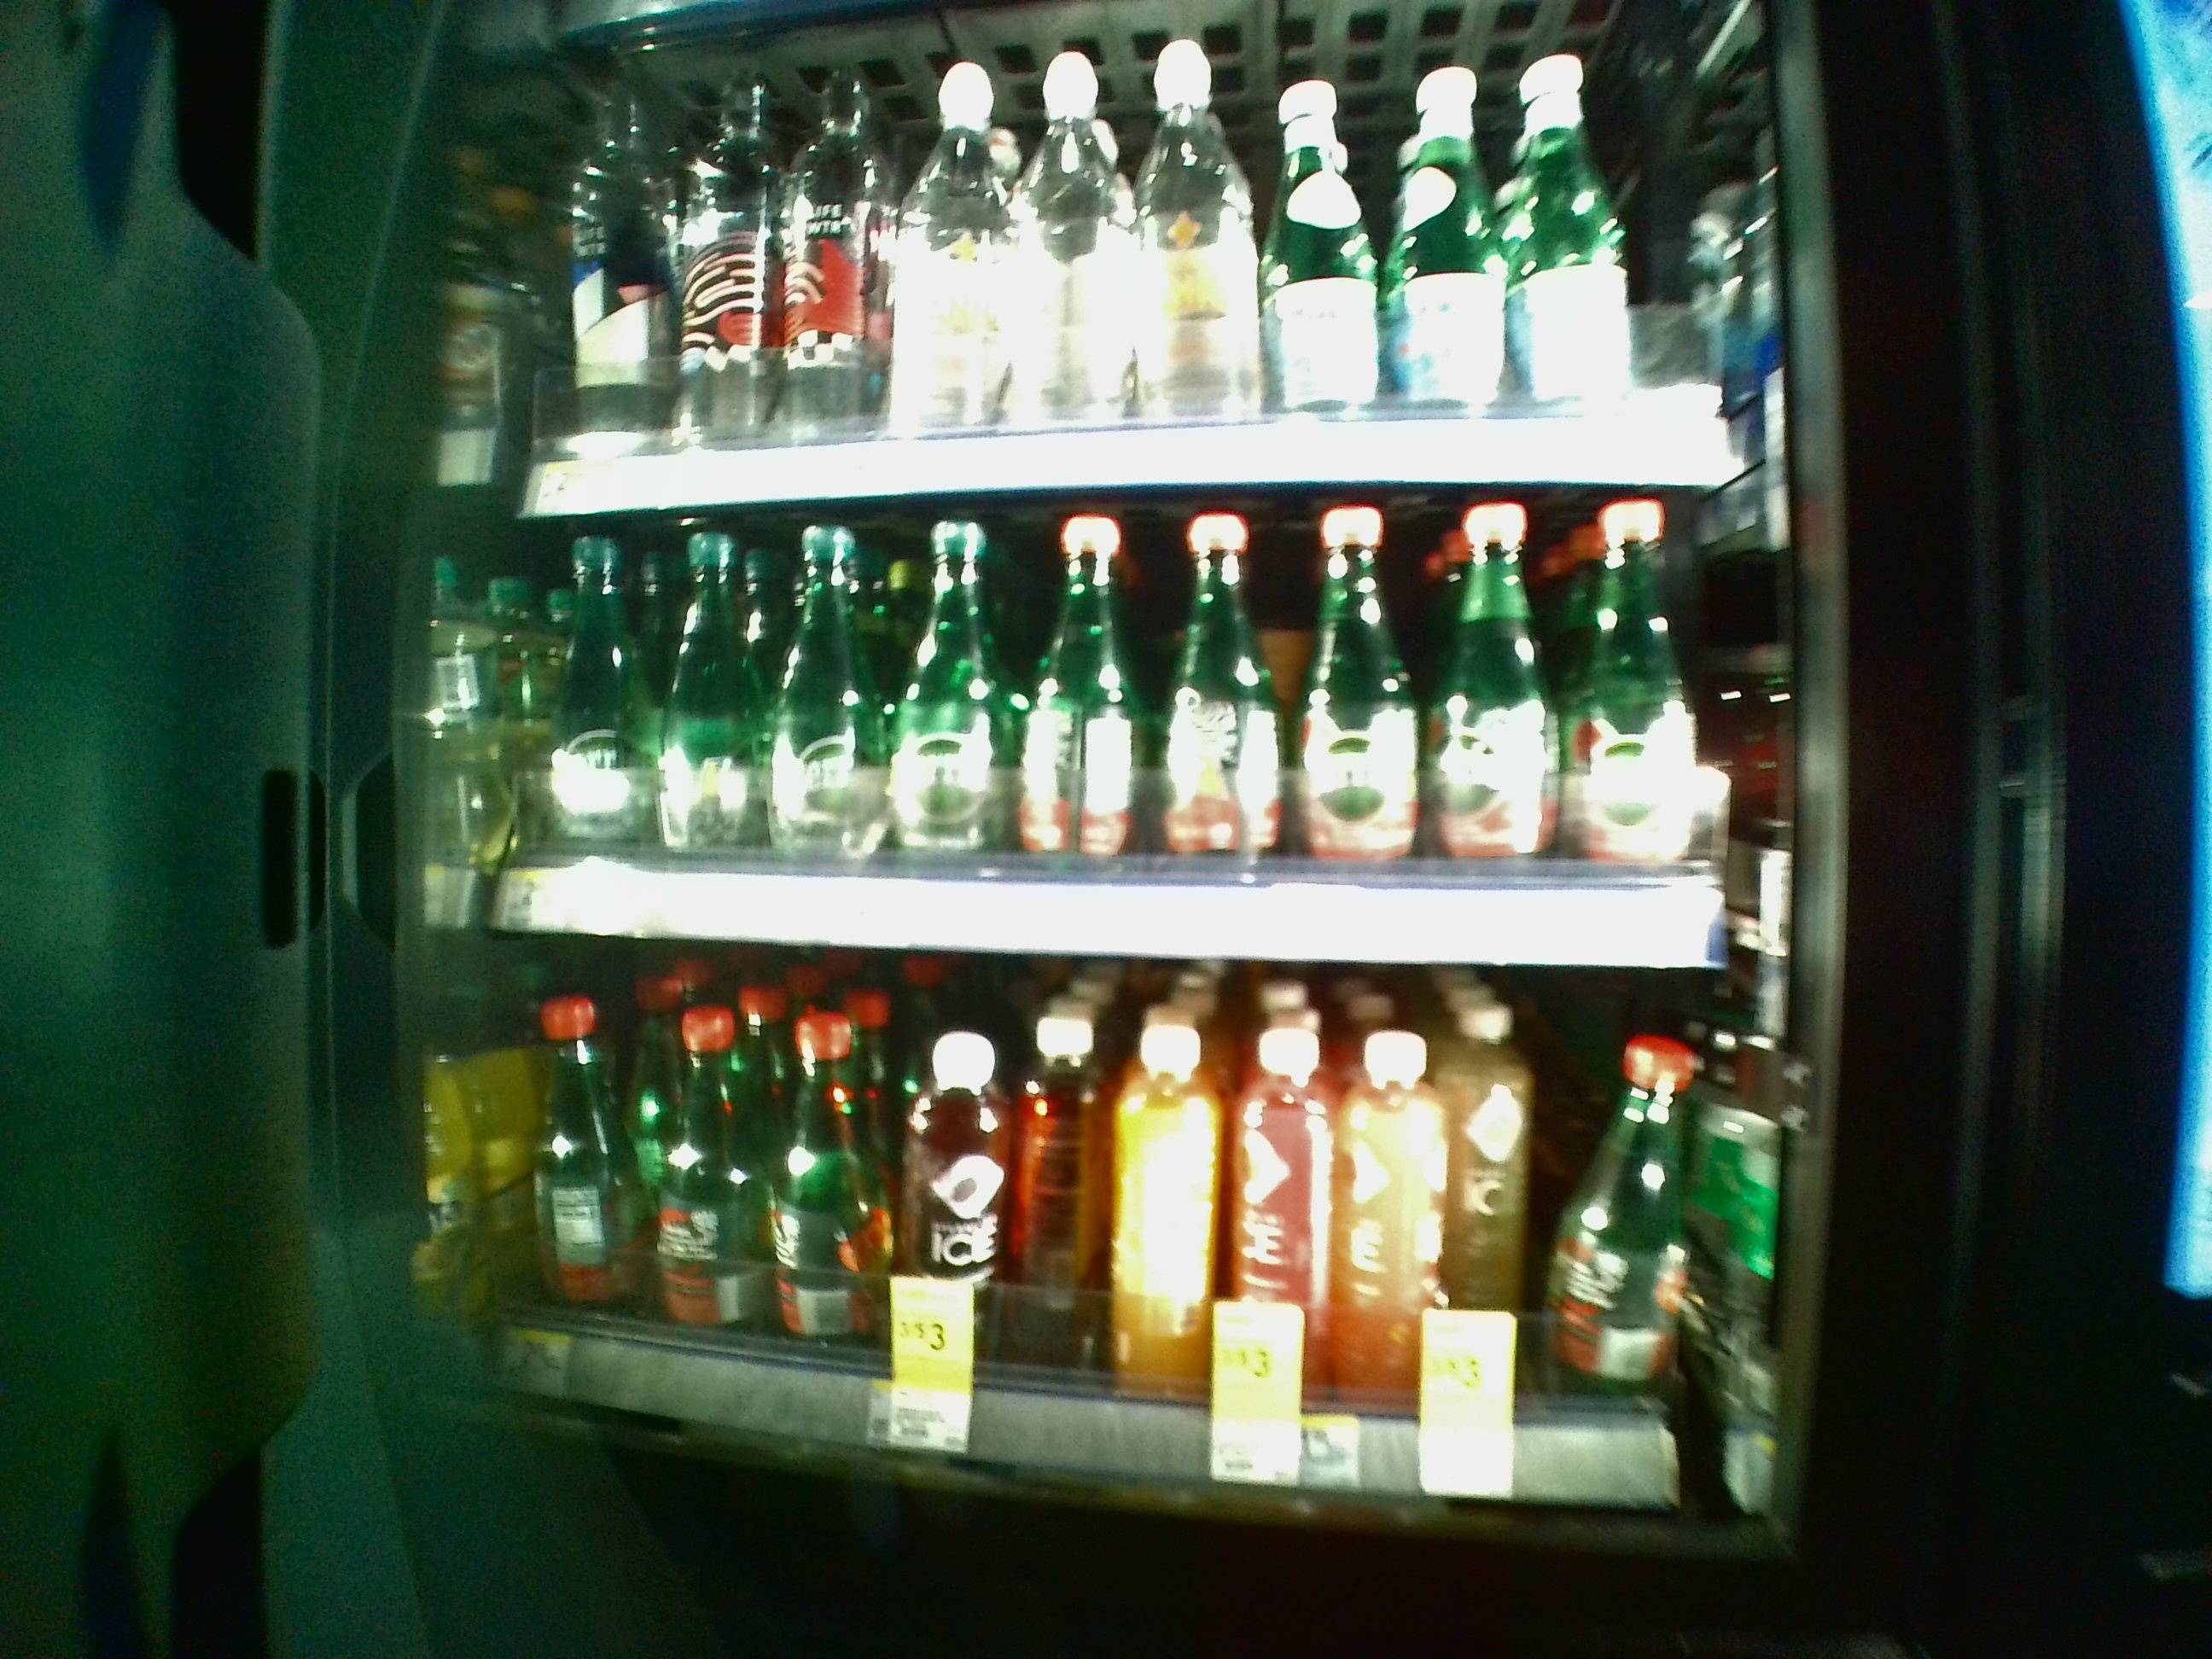shelf: (465, 969, 1775, 1516), (465, 518, 1775, 972)
